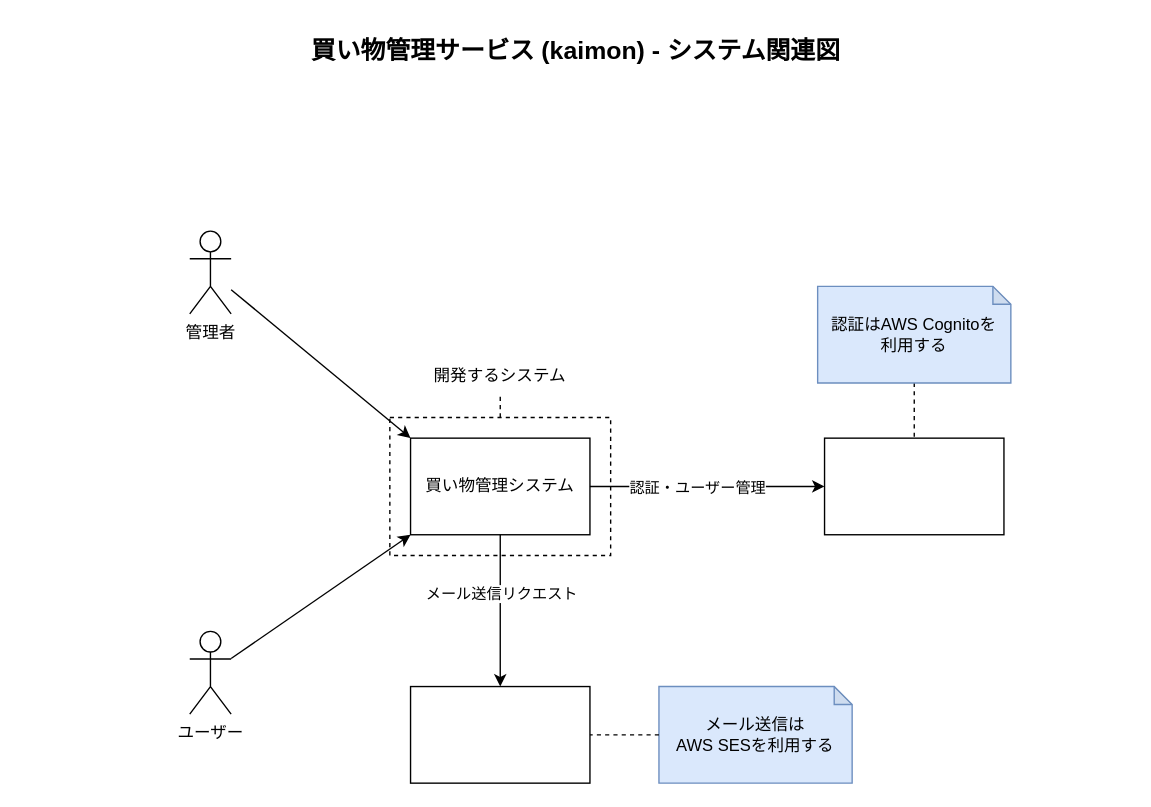
Image size: 1151x807. Some labels were removed from this diagram. The shapes that lost their labels are listed below. From the top down, each one's box as (x1, y1, x2, y2) in pixels, then its label:
(823, 437, 1004, 535): 認証サービス
(409, 685, 590, 783): メール通知サービス
